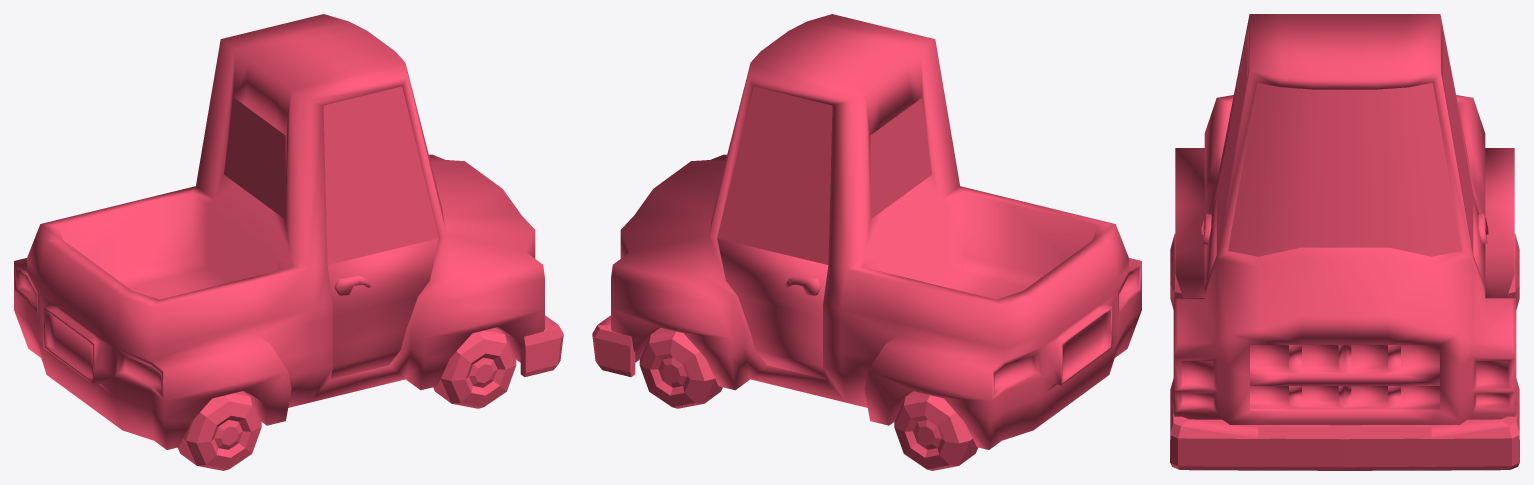
The model's file is ToyObject_127.fbx.
3 renders of one model, left to right at view 1: azimuth 30°, elevation 25°; view 2: azimuth 150°, elevation 25°; view 3: azimuth 270°, elevation 25°, orthographic. The views are drawn at different scales.
Visible parts, largest first — view 1: object-1.051; view 2: object-1.051; view 3: object-1.051.
Part boxes in pixels (x1,y1,x2,y2): object-1.051: (14,14,563,470); object-1.051: (592,14,1141,470); object-1.051: (1170,14,1519,470).
Bounding box in the file's own units: 0.147 × 0.1078 × 0.0936.
